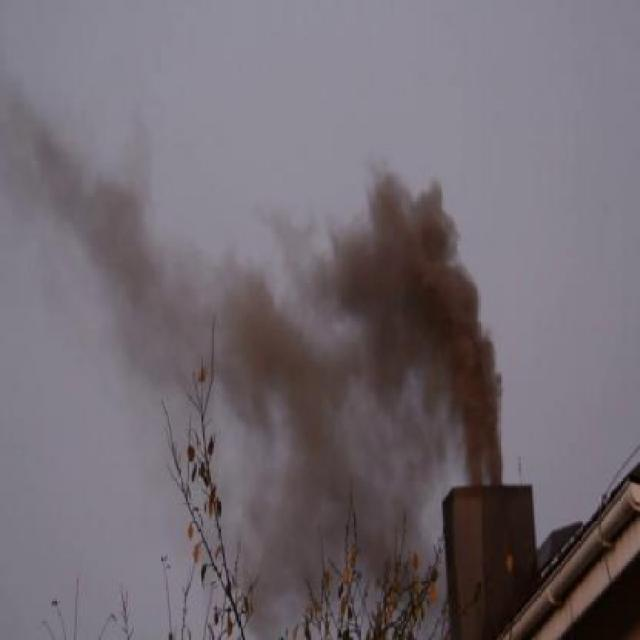smoke: (258, 122, 520, 473), (30, 114, 198, 360), (252, 482, 336, 578)
